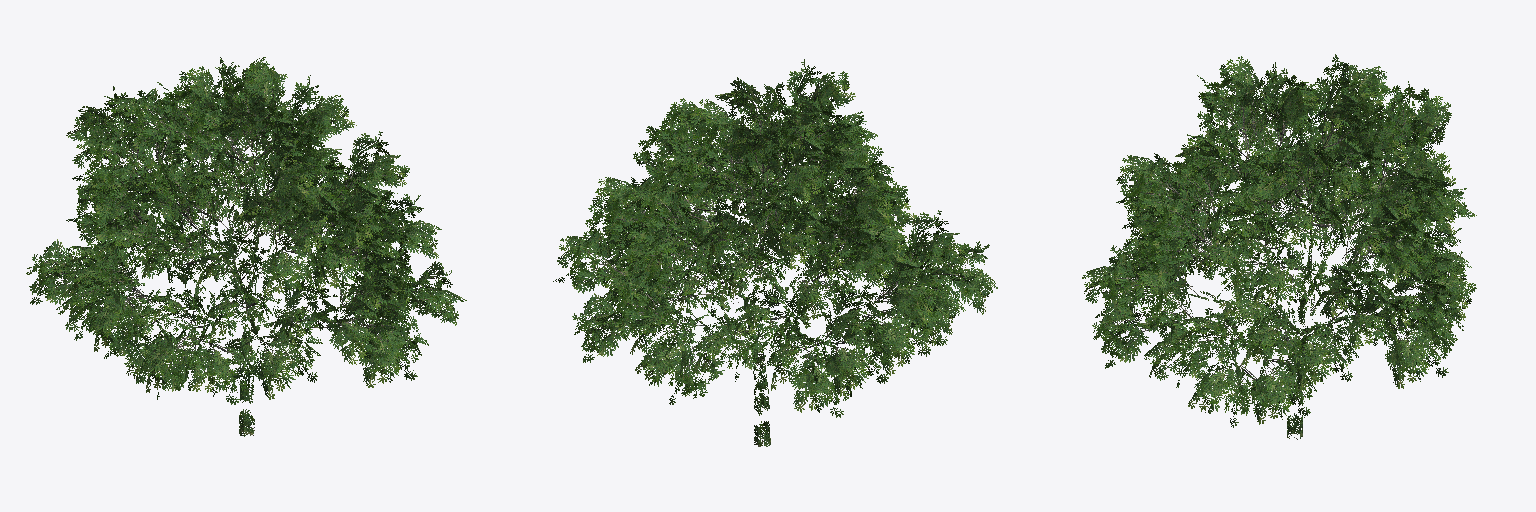
3 renders of one model, left to right at view 1: azimuth 30°, elevation 25°; view 2: azimuth 150°, elevation 25°; view 3: azimuth 270°, elevation 25°, orthographic.
Parts seen in each view (by area): view 1: AM113_061_Aesculus_Glabra; view 2: AM113_061_Aesculus_Glabra; view 3: AM113_061_Aesculus_Glabra.
Boxes of the visible parts, <box> form: AM113_061_Aesculus_Glabra: <box>26,57,466,436</box>; AM113_061_Aesculus_Glabra: <box>553,59,997,446</box>; AM113_061_Aesculus_Glabra: <box>1082,54,1476,439</box>.
Bounding box in the file's own units: 532 × 512 × 509.
Materials: 1 (1 with a texture image).